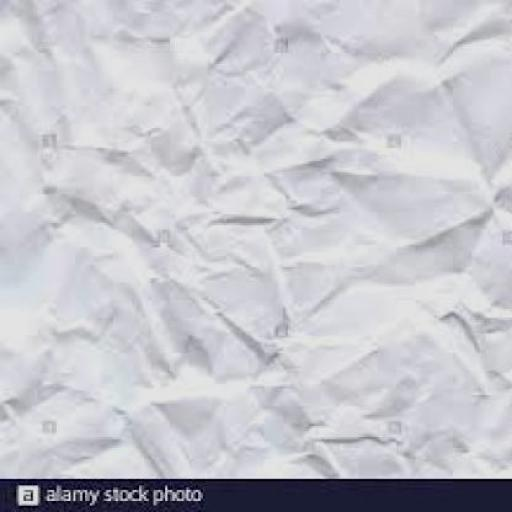paper: (0, 0, 511, 478)
